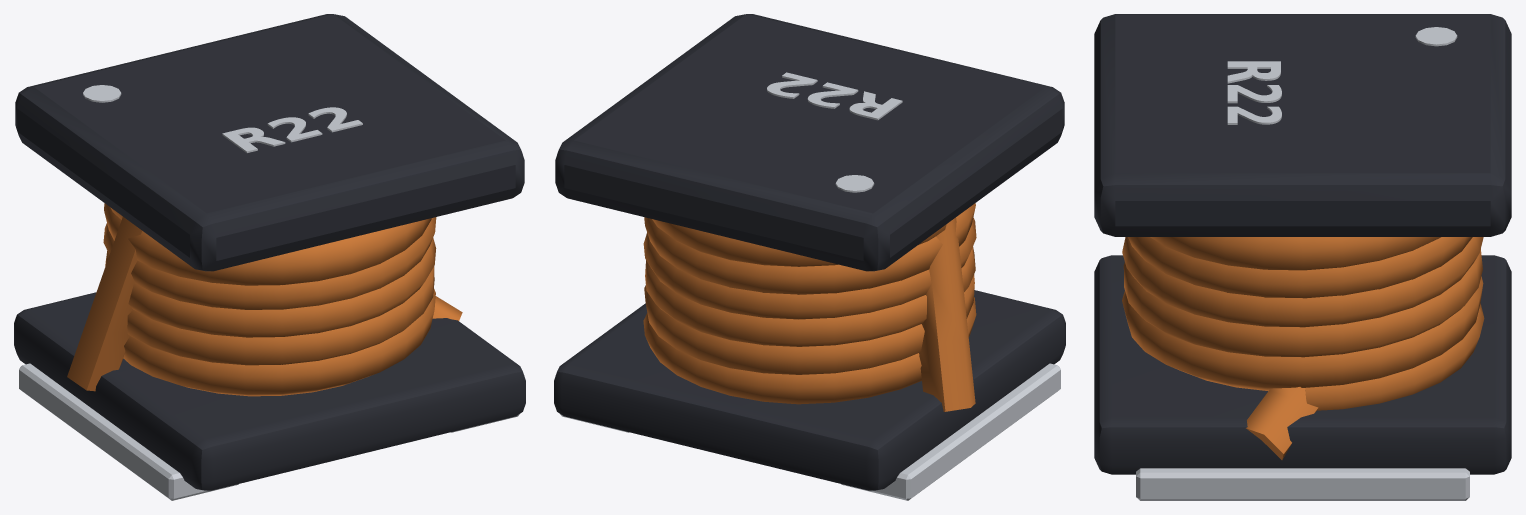
File: Choke.glb
3 renders of one model, left to right at view 1: azimuth 30°, elevation 25°; view 2: azimuth 150°, elevation 25°; view 3: azimuth 270°, elevation 25°, orthographic. The views are drawn at different scales.
Visible parts, largest first — view 1: Ferrite__Plastic__2E3038, Coil__Metal__C87533, Pins__Metal__C9CDD4; view 2: Ferrite__Plastic__2E3038, Coil__Metal__C87533, Pins__Metal__C9CDD4; view 3: Ferrite__Plastic__2E3038, Coil__Metal__C87533, Pins__Metal__C9CDD4.
Boxes of the visible parts, bbox=[...] form: Ferrite__Plastic__2E3038: bbox=[14, 14, 525, 490]; Coil__Metal__C87533: bbox=[67, 203, 462, 396]; Pins__Metal__C9CDD4: bbox=[19, 85, 519, 500]; Ferrite__Plastic__2E3038: bbox=[554, 14, 1065, 490]; Coil__Metal__C87533: bbox=[643, 203, 976, 411]; Pins__Metal__C9CDD4: bbox=[560, 72, 1060, 500]; Ferrite__Plastic__2E3038: bbox=[1094, 14, 1511, 474]; Coil__Metal__C87533: bbox=[1122, 237, 1484, 459]; Pins__Metal__C9CDD4: bbox=[1136, 27, 1469, 500].
Size of the model in its own units: 6.46 by 5.04 by 6.
